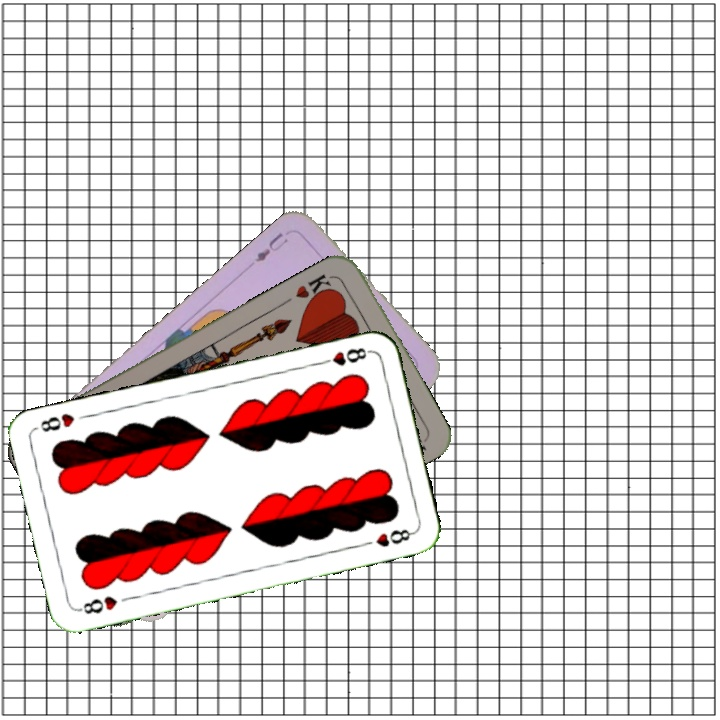EU: (251, 228, 291, 266)
H8: (315, 343, 373, 368), (74, 592, 120, 617)
HK: (291, 270, 337, 307)
